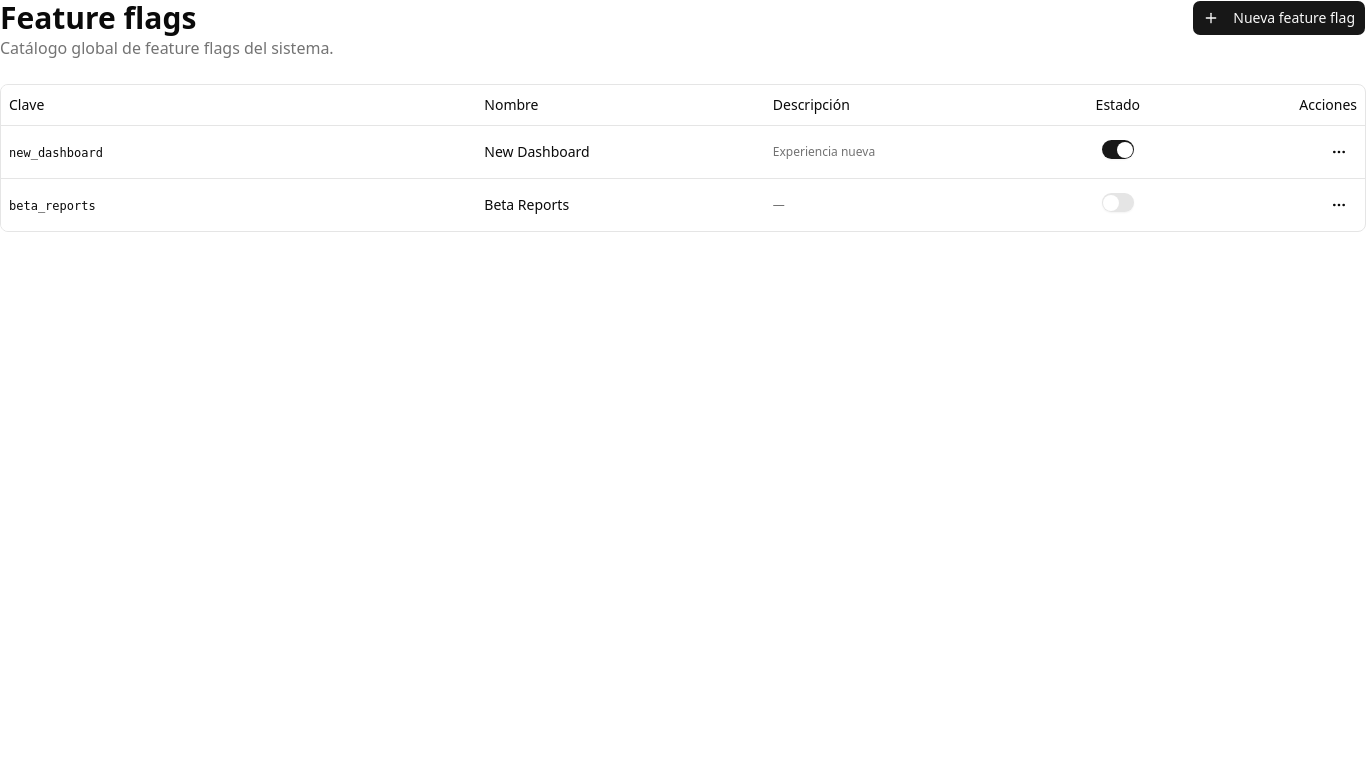
Test: FeatureFlagsPage › al elegir "Editar" en una fila abre el sheet en modo edición
Click the button named "acciones para new_dashboard": point(1339, 152) [1321, 134, 1357, 170]
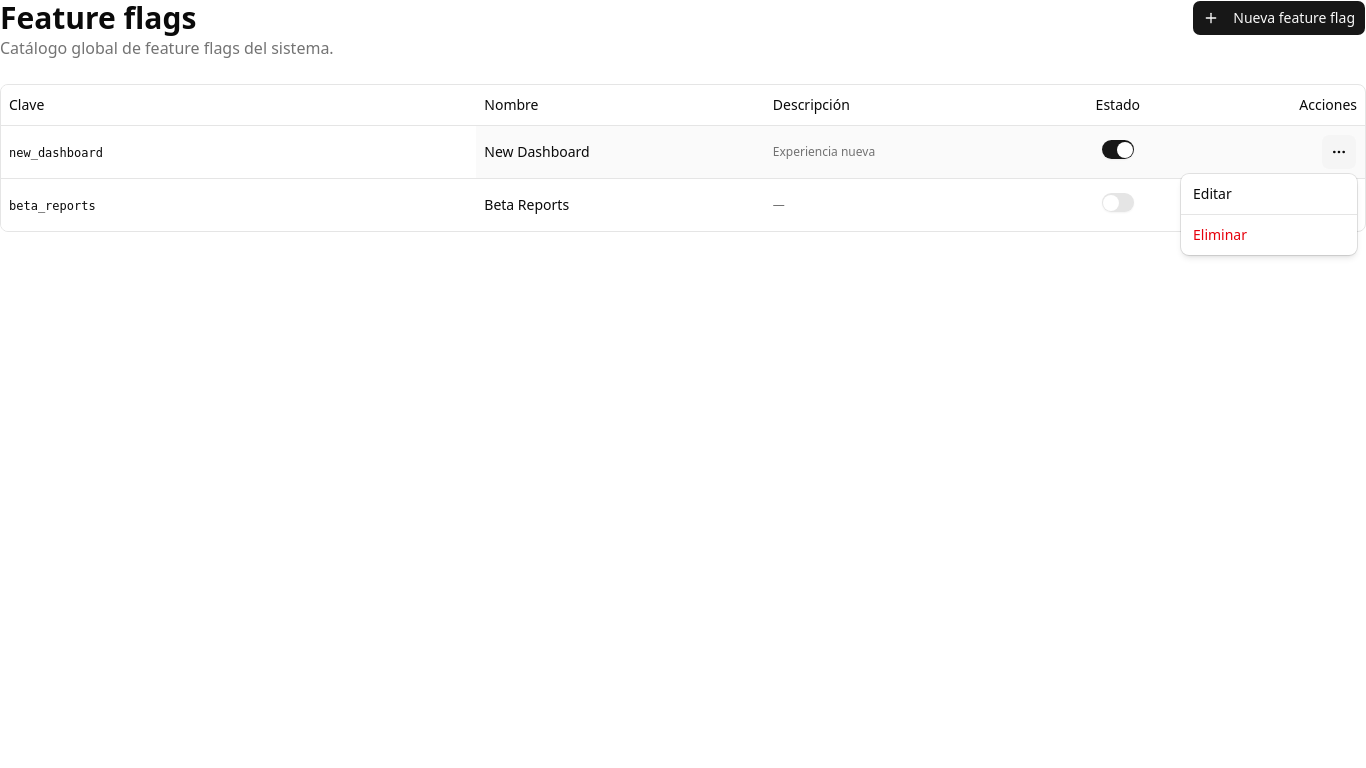
Click the menu item "Editar": point(1212, 194) [1193, 184, 1232, 203]
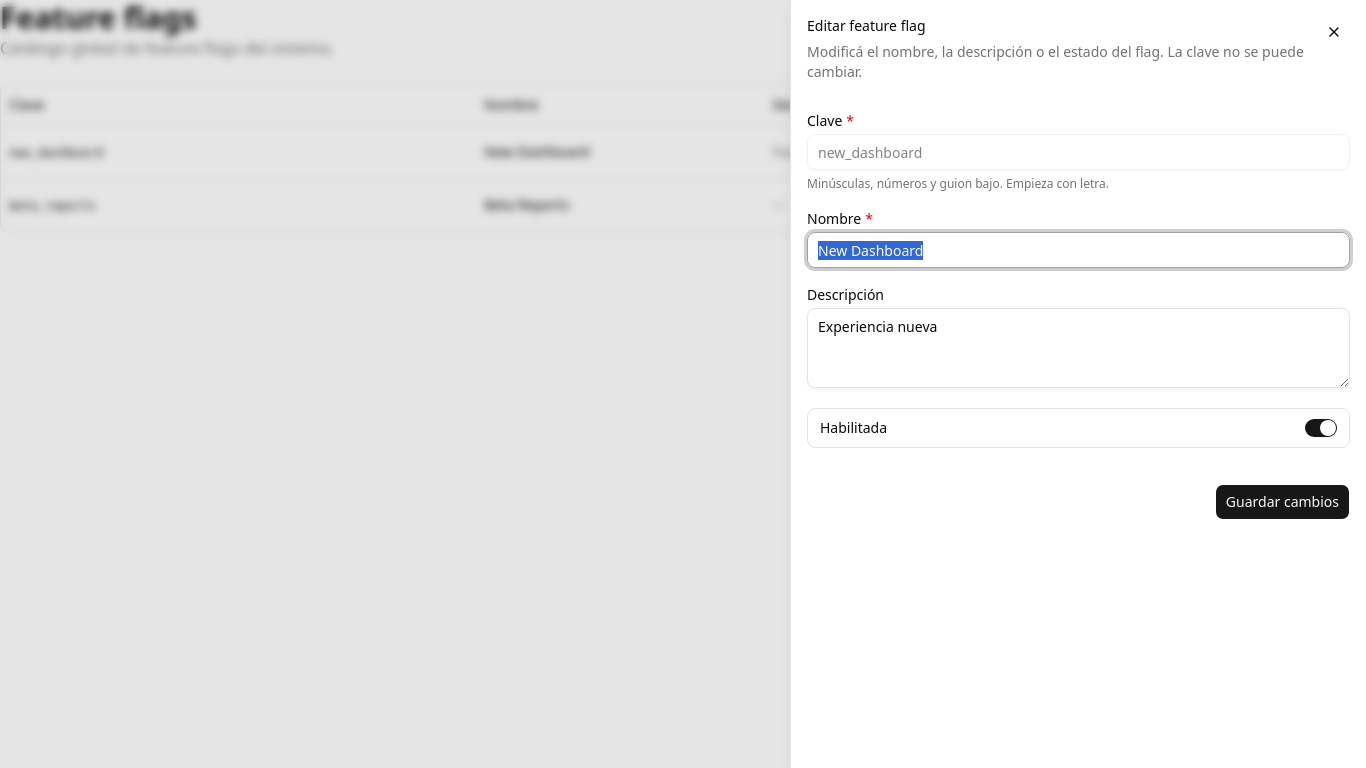
Expected: the button "Guardar cambios" is shown, [1215, 484, 1350, 520]
